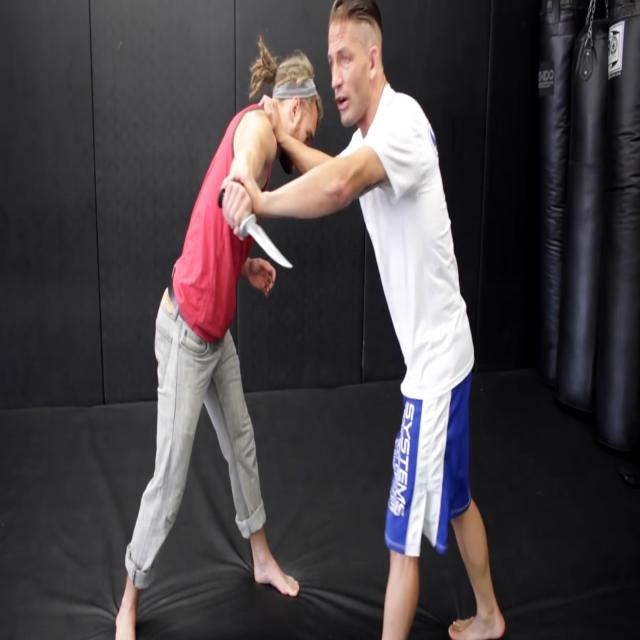knife: (241, 212, 299, 275)
